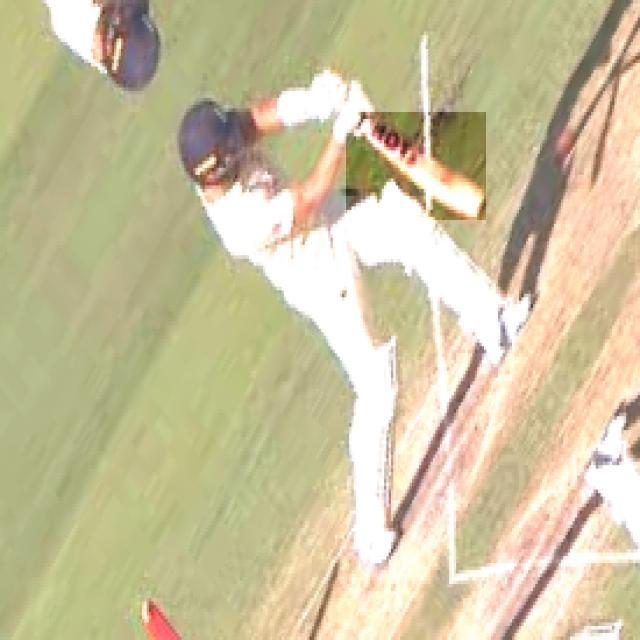bat: (346, 113, 488, 222)
toe: (473, 194, 484, 222)
